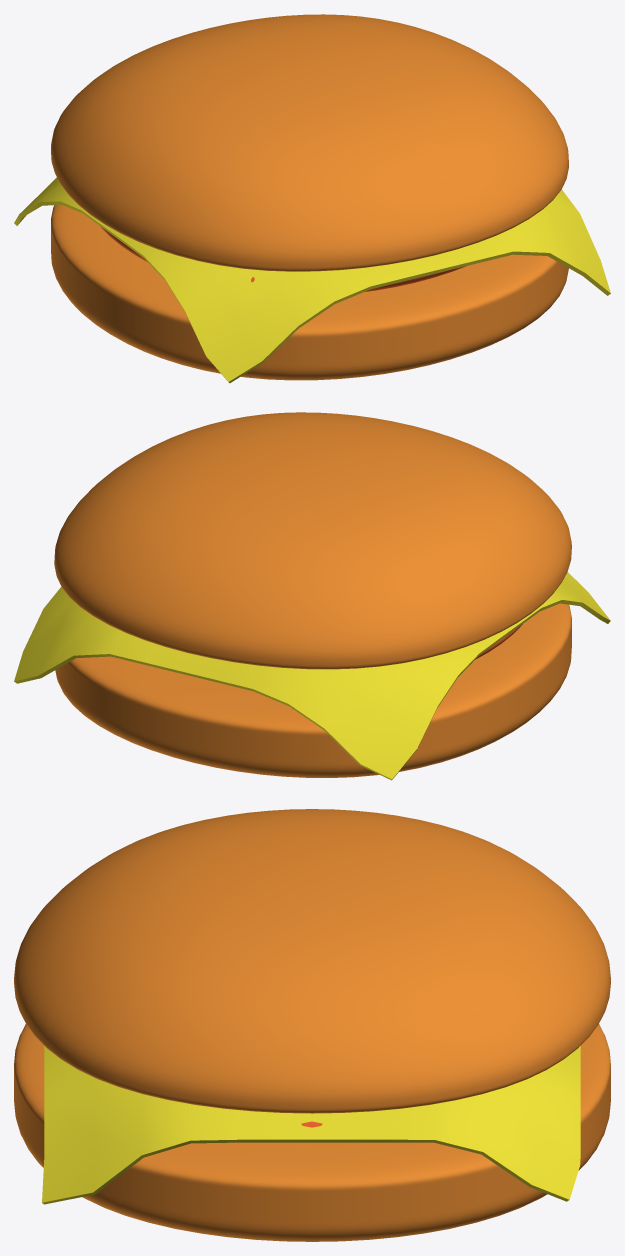
The model's file is hamburger.glb.
The picture shows the model from 3 angles, top to bottom: view 1: azimuth 30°, elevation 25°; view 2: azimuth 150°, elevation 25°; view 3: azimuth 270°, elevation 25°; orthographic projection. The views are drawn at different scales.
Parts seen in each view (by area): view 1: Cube.002, Cube, Plane, Cube.001; view 2: Cube.002, Cube, Plane; view 3: Cube.002, Cube, Plane.
Part boxes in pixels (box(x1,y1,x2,y2)): Cube.002: box(51, 14, 568, 271); Cube: box(51, 205, 568, 380); Plane: box(14, 177, 610, 383); Cube.001: box(100, 226, 466, 291); Cube.002: box(54, 412, 571, 669); Cube: box(55, 603, 571, 777); Plane: box(14, 572, 610, 780); Cube.002: box(14, 809, 610, 1113); Cube: box(14, 1024, 610, 1241); Plane: box(42, 1046, 580, 1204).
Bounding box in the file's own units: 9.1 × 4.6 × 9.1.
